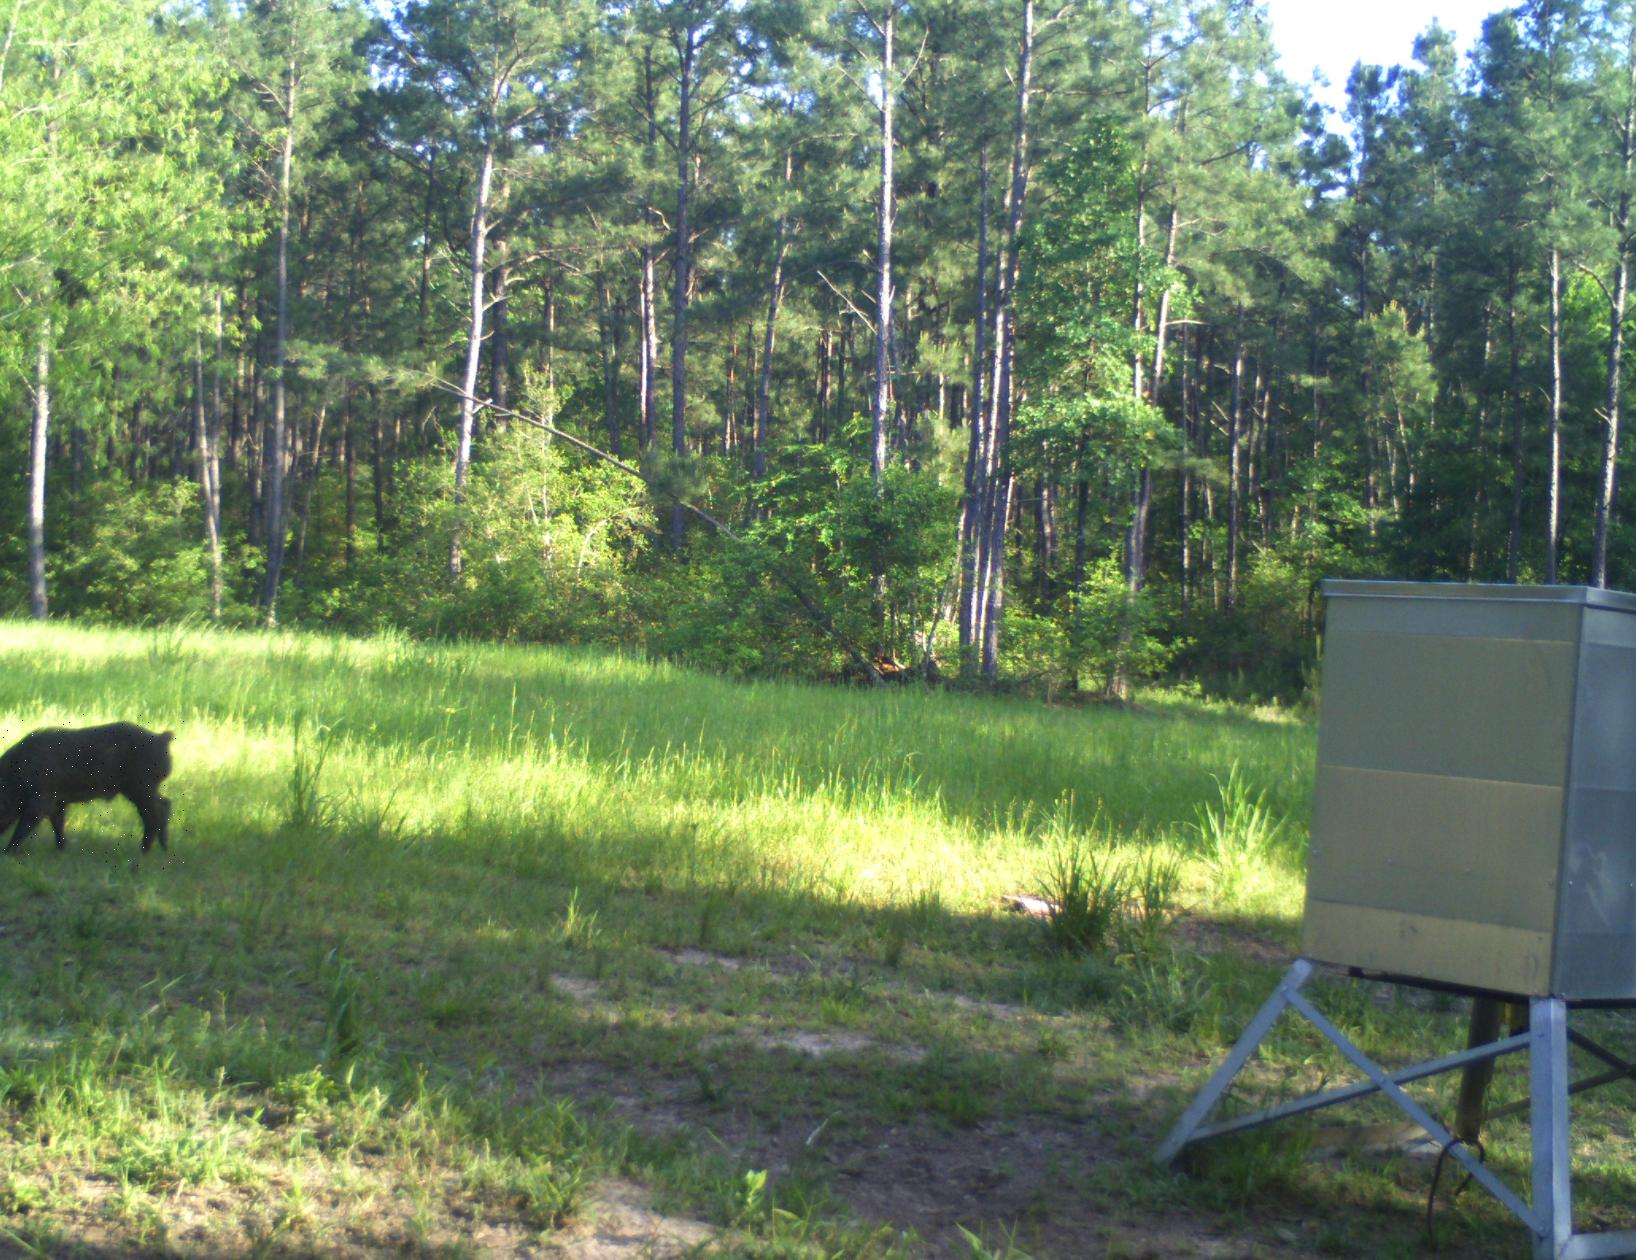Hog: (0, 713, 187, 871)
